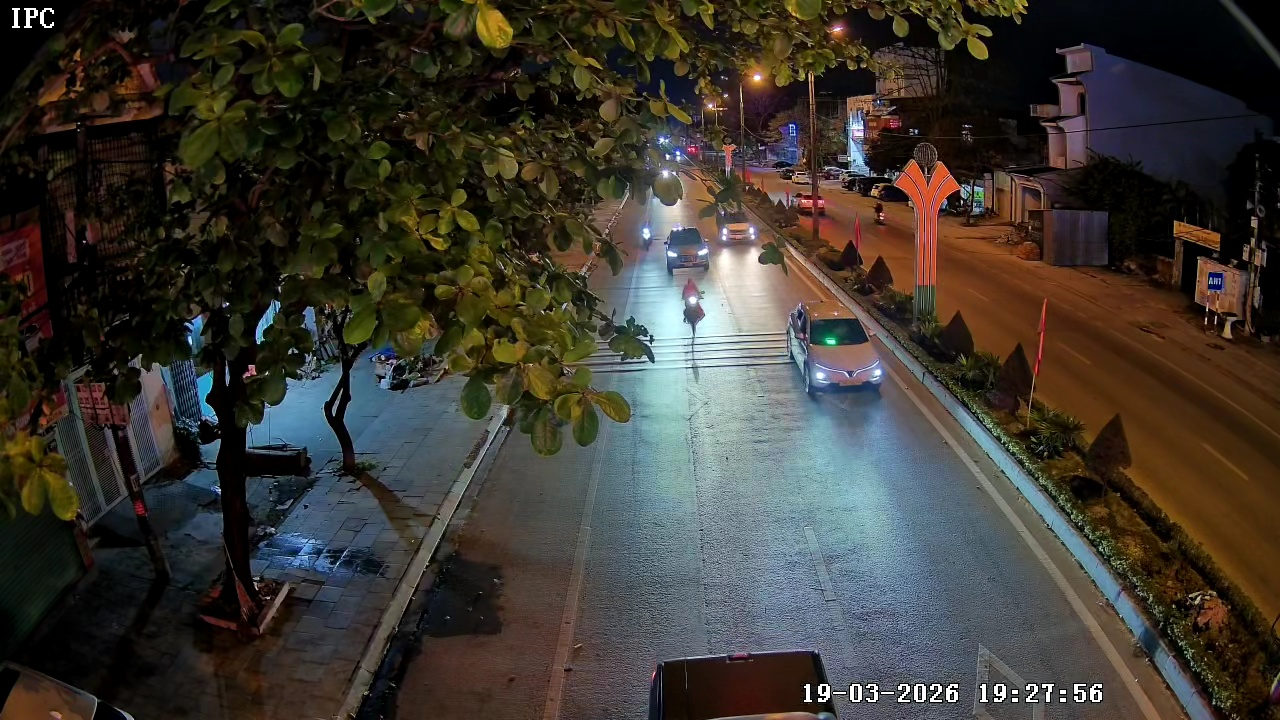car: (785, 300, 887, 397), (663, 223, 711, 275), (650, 167, 685, 208), (717, 215, 756, 246)
motorbike: (678, 271, 708, 333)
